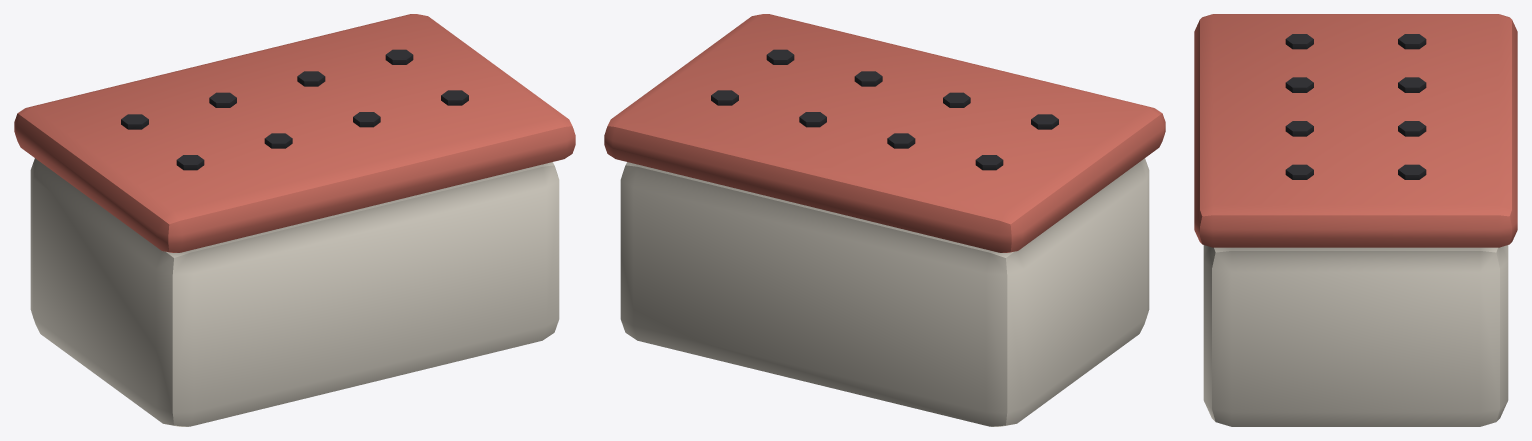
The model's file is bait_box.glb.
3 renders of one model, left to right at view 1: azimuth 30°, elevation 25°; view 2: azimuth 150°, elevation 25°; view 3: azimuth 270°, elevation 25°, orthographic.
Parts seen in each view (by area): view 1: PART; view 2: PART; view 3: PART.
Boxes of the visible parts, x1,y1,x2,y2 form: PART: (14,14,575,426); PART: (604,14,1165,426); PART: (1194,14,1517,426).
Size of the model in its own units: 0.104 by 0.0553 by 0.069.
